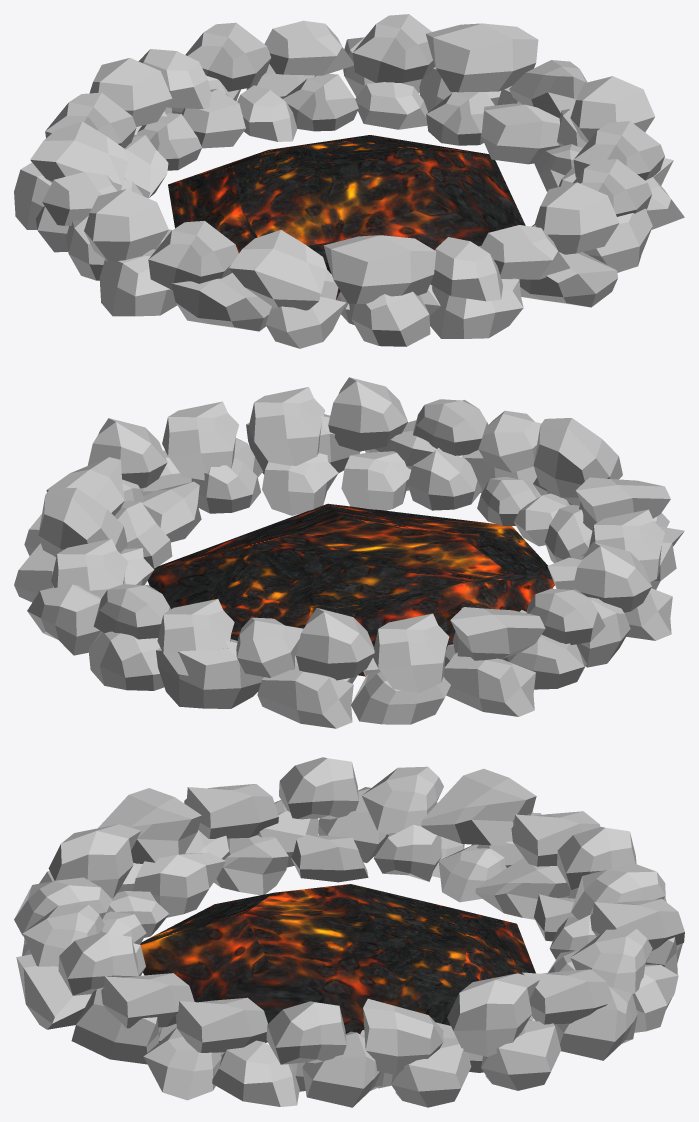
Rendered from fogueira.fbx.
The picture shows the model from 3 angles, top to bottom: view 1: azimuth 30°, elevation 25°; view 2: azimuth 150°, elevation 25°; view 3: azimuth 270°, elevation 25°; orthographic projection. The views are drawn at different scales.
Parts seen in each view (by area): view 1: Cube.060, Cube.038, Cube.020, Cube.036, Cube.037, Cube.022, Cube.033, Cube.025, Cube.021, Cube.058, Cube.001, Cube.032 (+33 smaller); view 2: Cube.060, Cube.020, Cube.018, Cube.026, Cube.028, Cube.031, Cube.012, Cube.013, Cube.022, Cube.034, Cube.038, Cube.021 (+36 smaller); view 3: Cube.060, Cube.021, Cube.038, Cube.036, Cube.024, Cube.020, Cube.027, Cube.037, Cube.031, Cube.009, Cube.025, Cube.040 (+33 smaller).
Part boxes in pixels (x1,y1,x2,y2): Cube.060: (168,135,525,299); Cube.038: (426,23,538,92); Cube.020: (323,235,436,303); Cube.036: (229,230,327,310); Cube.037: (84,189,168,261); Cube.022: (534,182,619,254); Cube.033: (352,14,435,82); Cube.025: (148,220,238,289); Cube.021: (30,121,128,190); Cube.058: (481,103,560,164); Cube.001: (171,273,271,331); Cube.032: (185,22,271,91); Cube.060: (147,503,554,676); Cube.020: (533,418,622,497); Cube.018: (156,639,263,708); Cube.026: (372,613,449,693); Cube.028: (248,387,325,465); Cube.031: (162,401,238,480); Cube.012: (443,652,535,716); Cube.013: (257,660,353,728); Cube.022: (328,377,407,451); Cube.034: (296,608,374,680); Cube.038: (38,487,127,557); Cube.021: (450,607,545,660); Cube.060: (140,884,535,1033); Cube.021: (421,768,536,845); Cube.038: (447,973,539,1056); Cube.036: (98,788,201,863); Cube.024: (363,998,443,1074); Cube.020: (48,824,140,898); Cube.027: (266,1001,346,1064); Cube.037: (279,757,358,819); Cube.031: (175,997,267,1052); Cube.009: (212,1040,299,1106); Cube.025: (184,784,278,838); Cube.040: (132,852,225,917).
Bounding box in the file's own units: 1002 × 172 × 1002.
